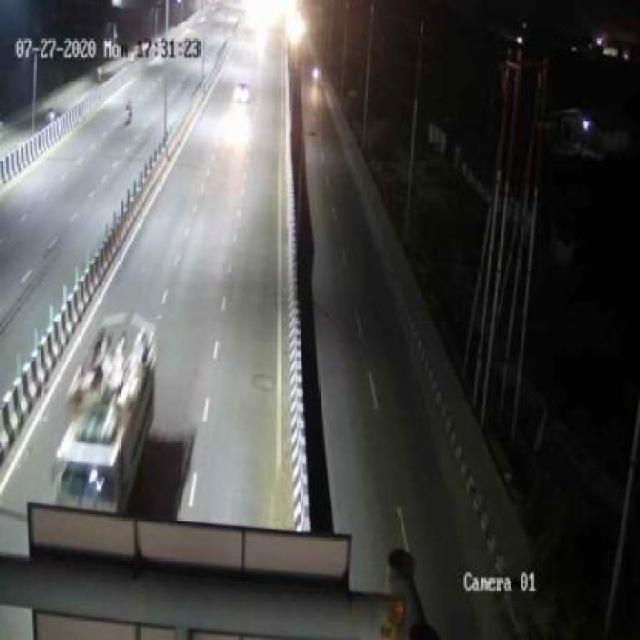car: (234, 75, 257, 111)
